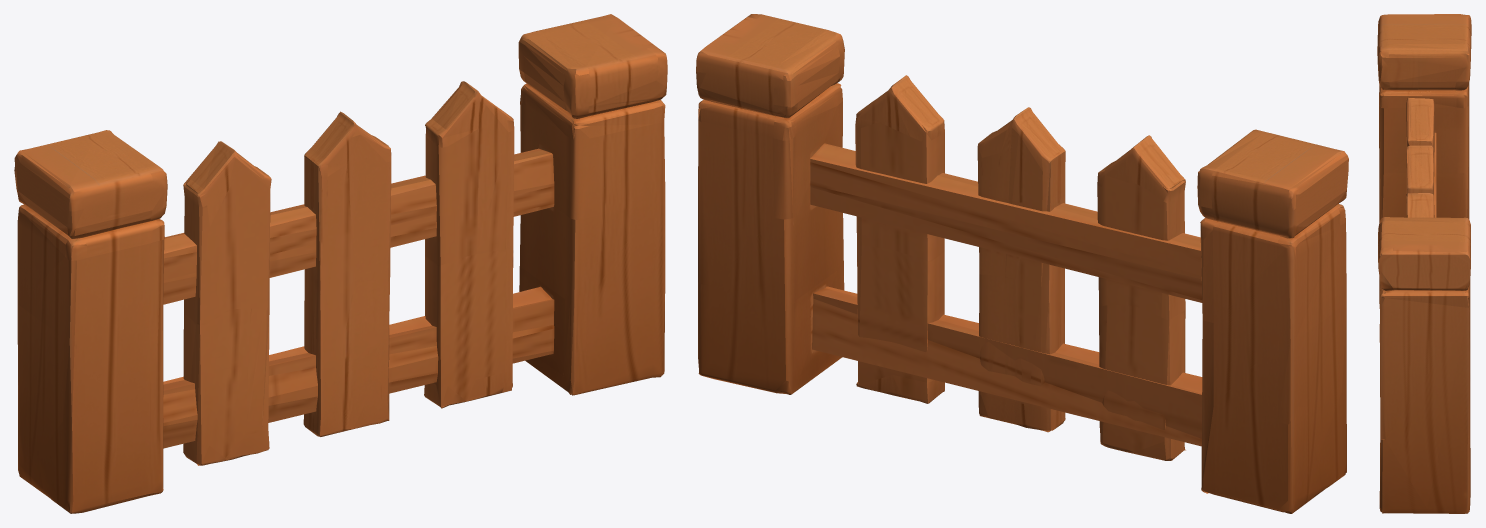
File: fence_low_3.glb
The picture shows the model from 3 angles, left to right: view 1: azimuth 30°, elevation 25°; view 2: azimuth 150°, elevation 25°; view 3: azimuth 270°, elevation 25°; orthographic projection. The views are drawn at different scales.
Visible parts, largest first — view 1: output_unwrapped; view 2: output_unwrapped; view 3: output_unwrapped.
Boxes of the visible parts, box(x1,y1,x2,y2) form: output_unwrapped: box(14, 14, 667, 513); output_unwrapped: box(696, 14, 1348, 513); output_unwrapped: box(1377, 14, 1471, 513).
Size of the model in its own units: 0.95 by 0.5047 by 0.161.
Materials: 1 (1 with a texture image).
